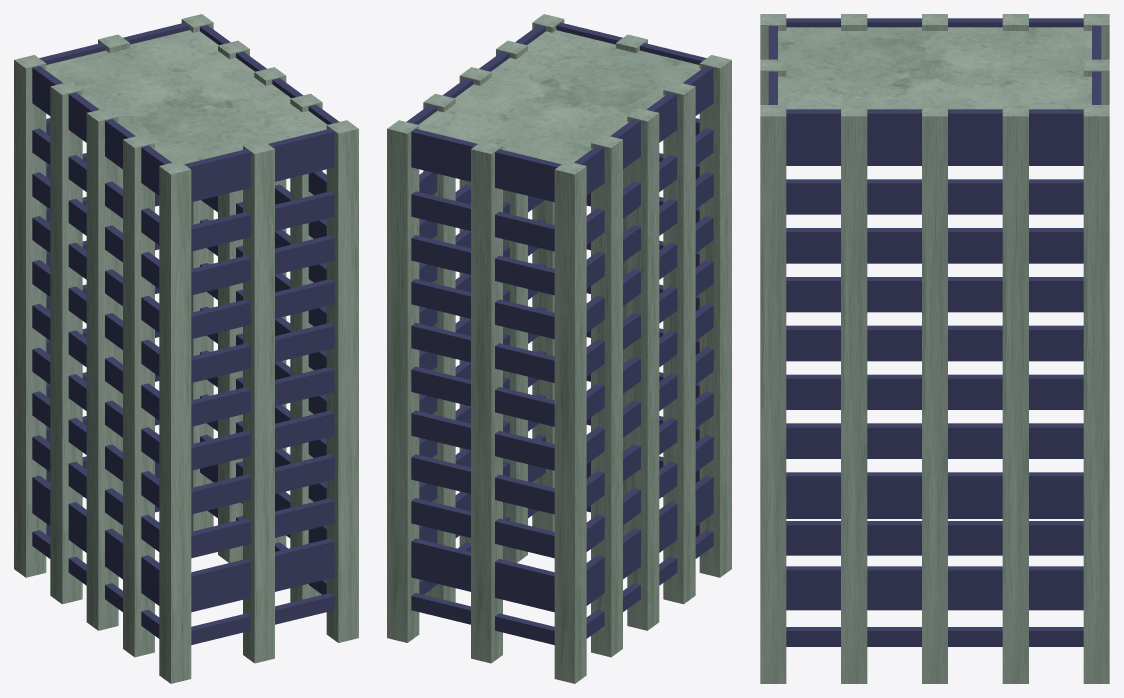
File: build2.fbx
The picture shows the model from 3 angles, left to right: view 1: azimuth 30°, elevation 25°; view 2: azimuth 150°, elevation 25°; view 3: azimuth 270°, elevation 25°; orthographic projection. The views are drawn at different scales.
Parts seen in each view (by area): view 1: polySurface114, polySurface109, polySurface101, polySurface112, polySurface94, polySurface73, polySurface60, polySurface62, polySurface70, polySurface84, polySurface65, polySurface83 (+33 smaller); view 2: polySurface114, polySurface60, polySurface80, polySurface76, polySurface94, polySurface62, polySurface109, polySurface73, polySurface106, polySurface91, polySurface83, polySurface65 (+33 smaller); view 3: polySurface114, polySurface65, polySurface80, polySurface83, polySurface101, polySurface95, polySurface74, polySurface110, polySurface86, polySurface90, polySurface107, polySurface108 (+21 smaller).
Part boxes in pixels (x1,y1,x2,y2): polySurface114: (45,30,327,164); polySurface109: (159,161,191,683); polySurface101: (326,120,358,642); polySurface112: (243,140,274,663); polySurface94: (86,108,118,630); polySurface73: (50,81,82,604); polySurface60: (14,55,46,577); polySurface62: (123,134,154,657); polySurface70: (184,128,334,202); polySurface84: (191,538,334,612); polySurface65: (290,93,322,602); polySurface83: (218,40,249,562); polySurface114: (418,30,700,164); polySurface60: (554,161,586,683); polySurface80: (387,120,419,642); polySurface76: (471,140,502,663); polySurface94: (627,108,659,630); polySurface62: (663,81,695,604); polySurface109: (699,55,731,577); polySurface73: (591,134,622,657); polySurface106: (411,128,561,202); polySurface91: (411,538,554,612); polySurface83: (423,93,455,602); polySurface65: (496,40,527,562); polySurface114: (778,27,1091,109); polySurface65: (841,105,867,683); polySurface80: (1083,105,1109,683); polySurface83: (1002,105,1028,683); polySurface101: (760,105,786,683); polySurface95: (922,105,947,683); polySurface74: (786,566,1083,610); polySurface110: (786,109,1083,153); polySurface86: (786,325,1083,354); polySurface90: (786,423,1083,452); polySurface107: (786,472,1083,501); polySurface108: (786,374,1083,403).
Size of the model in its own units: 8.97 by 23.25 by 12.97.
2 materials, 1 textured.
